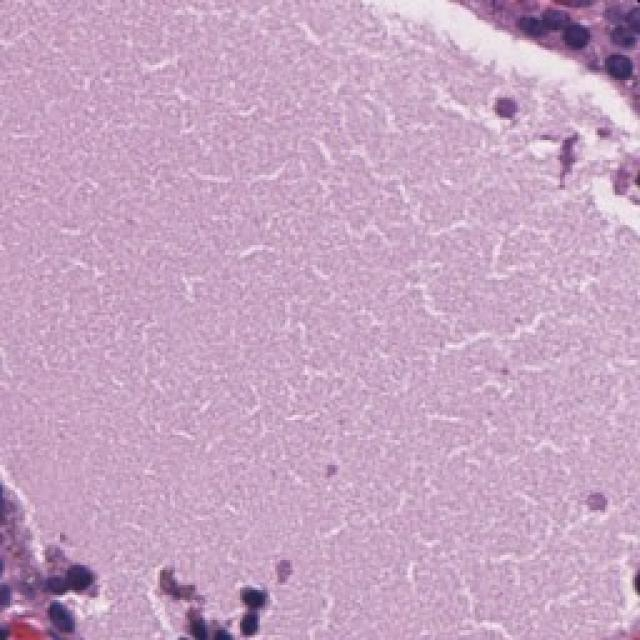normal: (552, 0, 612, 78), (585, 35, 640, 90), (498, 0, 555, 42)
